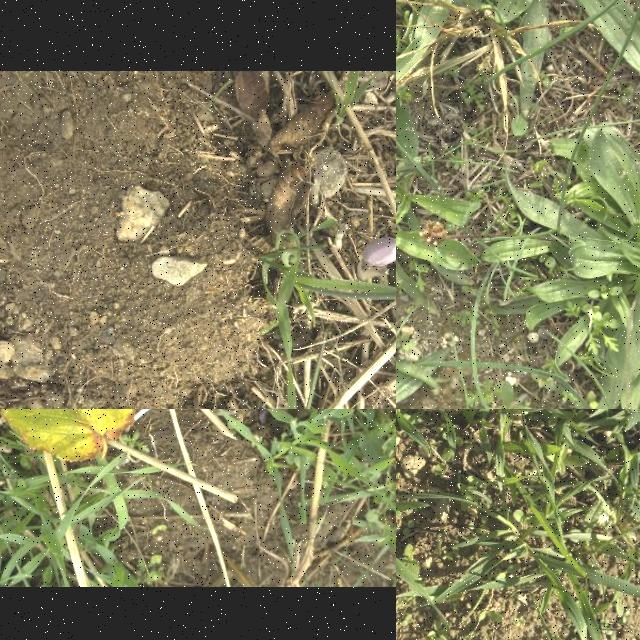flower: (362, 236, 396, 268)
